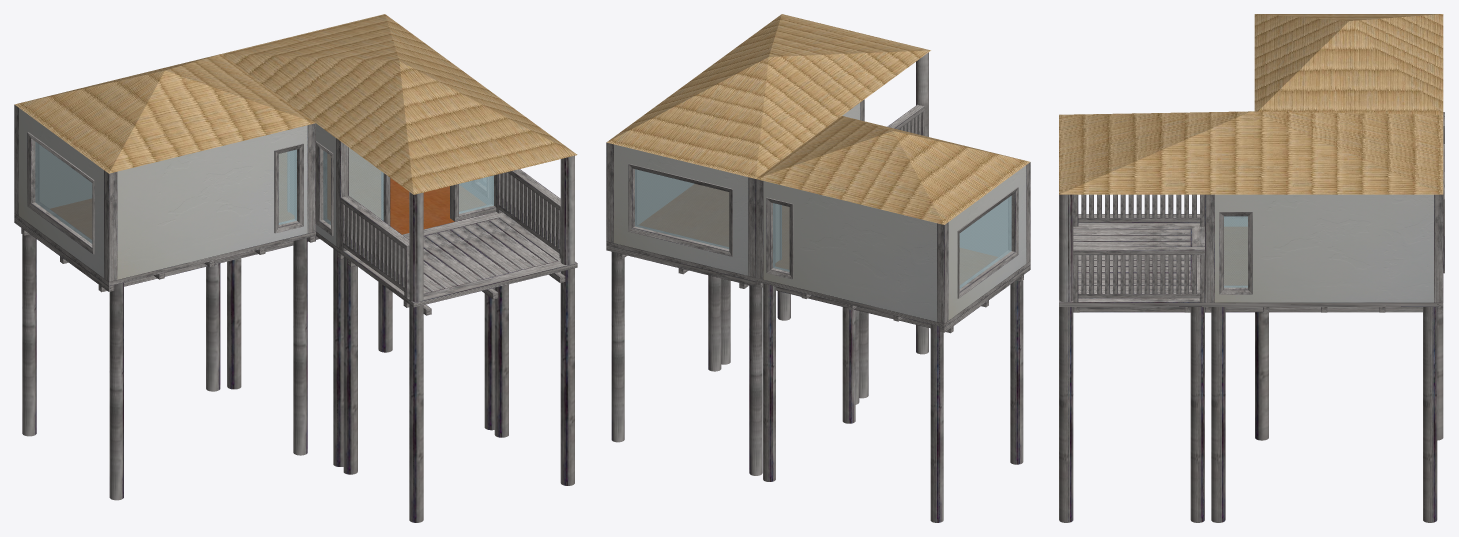
The model's file is Hut on a Pier.dae.
The picture shows the model from 3 angles, left to right: view 1: azimuth 30°, elevation 25°; view 2: azimuth 150°, elevation 25°; view 3: azimuth 270°, elevation 25°; orthographic projection. The views are drawn at different scales.
Visible parts, largest first — view 1: group_36 (×9), group_22, group_21 (×6), group_24, group_1, group_19, group_2, group_10, group_25, group_29, group_9, group_31 (+7 smaller); view 2: group_36 (×9), group_22, group_21 (×6), group_24, group_31, group_7, group_13, group_27, group_29, group_25, group_5, group_1 (+6 smaller); view 3: group_21 (×5), group_22, group_24, group_10, group_19, group_5, group_8, group_13, group_2, group_25, group_6, group_27.
Boxes of the visible parts, x1=… form: group_36 (×9): x1=14, y1=105, x2=315, y2=286; group_22: x1=221, y1=14, x2=577, y2=194; group_21 (×6): x1=279, y1=123, x2=577, y2=307; group_24: x1=14, y1=54, x2=315, y2=173; group_1: x1=409, y1=192, x2=423, y2=522; group_19: x1=560, y1=155, x2=574, y2=485; group_2: x1=340, y1=196, x2=409, y2=297; group_10: x1=496, y1=169, x2=560, y2=258; group_25: x1=293, y1=238, x2=307, y2=455; group_29: x1=109, y1=282, x2=123, y2=500; group_9: x1=343, y1=256, x2=357, y2=474; group_31: x1=22, y1=234, x2=36, y2=436; group_36 (×9): x1=755, y1=162, x2=1030, y2=327; group_22: x1=606, y1=14, x2=930, y2=178; group_21 (×6): x1=606, y1=99, x2=864, y2=281; group_24: x1=756, y1=116, x2=1029, y2=224; group_31: x1=930, y1=324, x2=943, y2=522; group_7: x1=749, y1=285, x2=762, y2=475; group_13: x1=611, y1=252, x2=624, y2=442; group_27: x1=763, y1=283, x2=775, y2=481; group_29: x1=1010, y1=280, x2=1023, y2=464; group_25: x1=842, y1=307, x2=855, y2=423; group_5: x1=708, y1=275, x2=721, y2=371; group_1: x1=916, y1=52, x2=928, y2=354; group_21 (×5): x1=1059, y1=194, x2=1443, y2=306; group_22: x1=1059, y1=111, x2=1443, y2=194; group_24: x1=1254, y1=14, x2=1443, y2=114; group_10: x1=1073, y1=246, x2=1204, y2=302; group_19: x1=1059, y1=194, x2=1073, y2=522; group_5: x1=1211, y1=307, x2=1225, y2=522; group_8: x1=1190, y1=307, x2=1204, y2=522; group_13: x1=1423, y1=307, x2=1437, y2=522; group_2: x1=1073, y1=194, x2=1204, y2=226; group_25: x1=1255, y1=312, x2=1268, y2=440; group_6: x1=1079, y1=307, x2=1422, y2=312; group_27: x1=1437, y1=312, x2=1443, y2=440.
Bounding box in the file's own units: 355 × 319 × 339.
